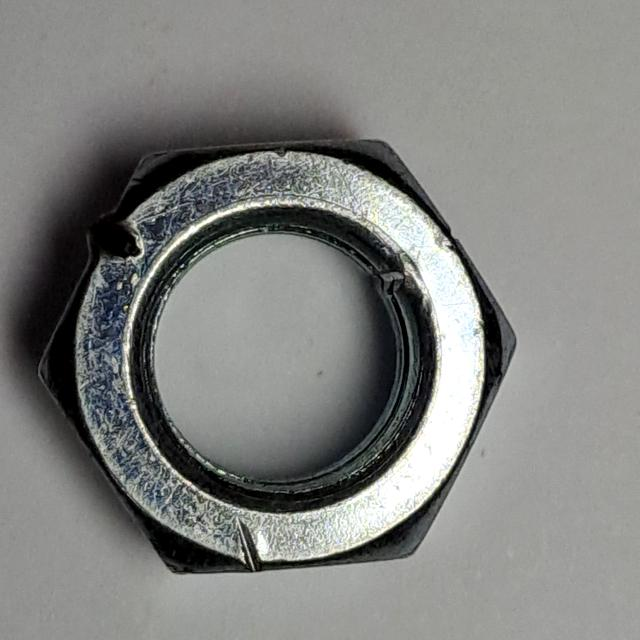Scratches: (30, 117, 535, 601)
